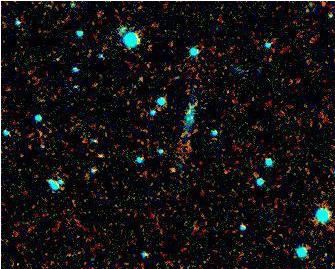star: (158, 153, 188, 183)
